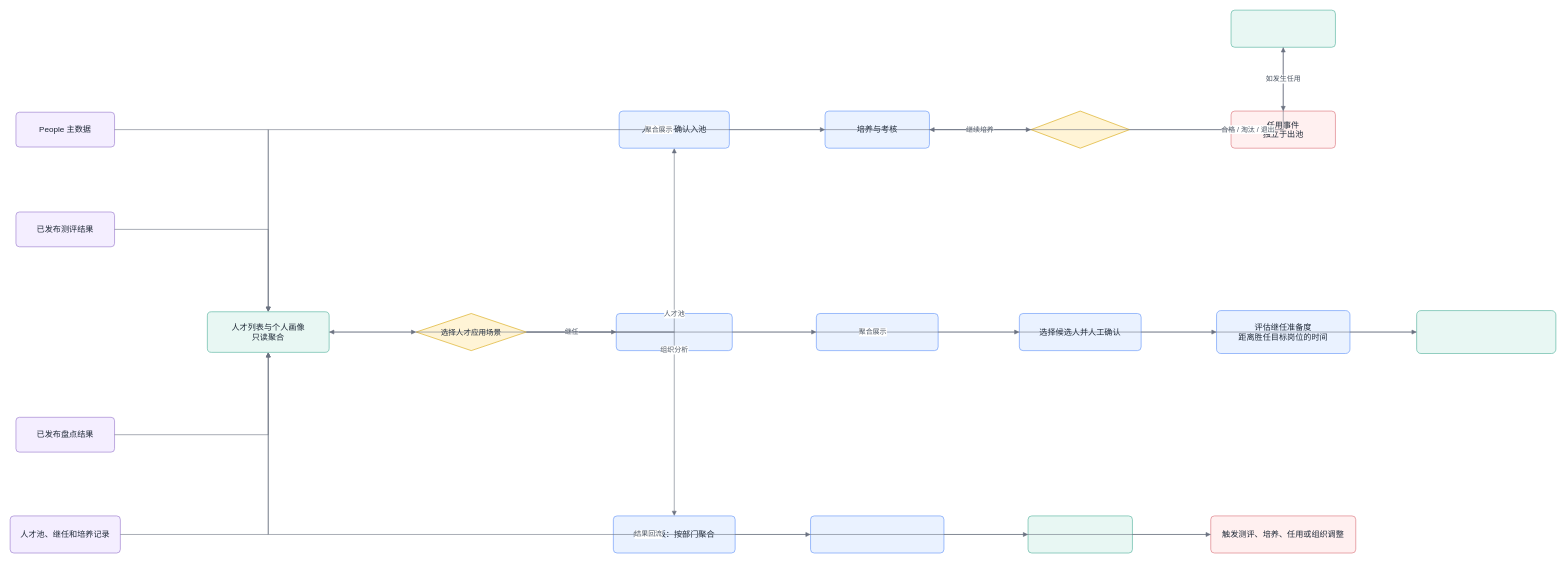
This 1566x563 diagram has some shape labels left out. Here are the shapes that lost their labels. From the top down, the box of each, then its label:
(1230, 10, 1335, 47): 记录出池原因
(1030, 110, 1130, 148): 出池评估
(616, 313, 732, 351): 继任：选择关键岗位
(816, 313, 938, 351): 设置目标人数与岗位规则
(1416, 310, 1556, 354): 计算岗位继任风险 覆盖率 + 就绪人数 + 流失风险
(810, 515, 944, 553): 结构、胜任、盘点和继任储备
(1027, 515, 1132, 553): 高管人才决策
